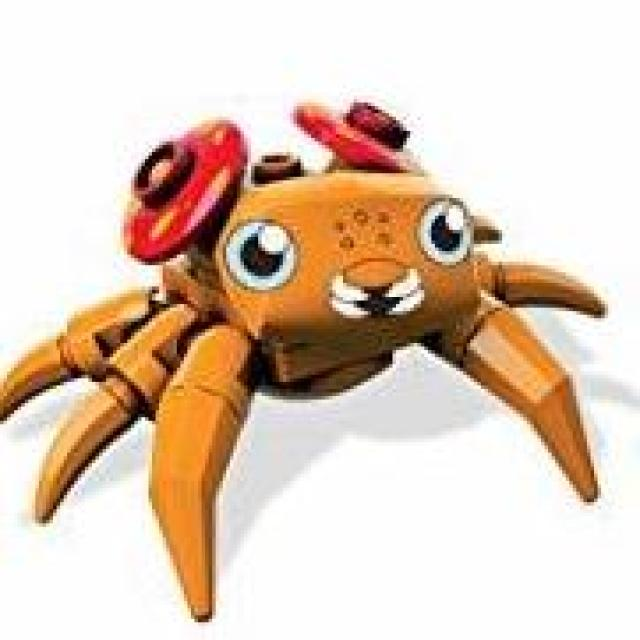Paras: (104, 96, 546, 449)
